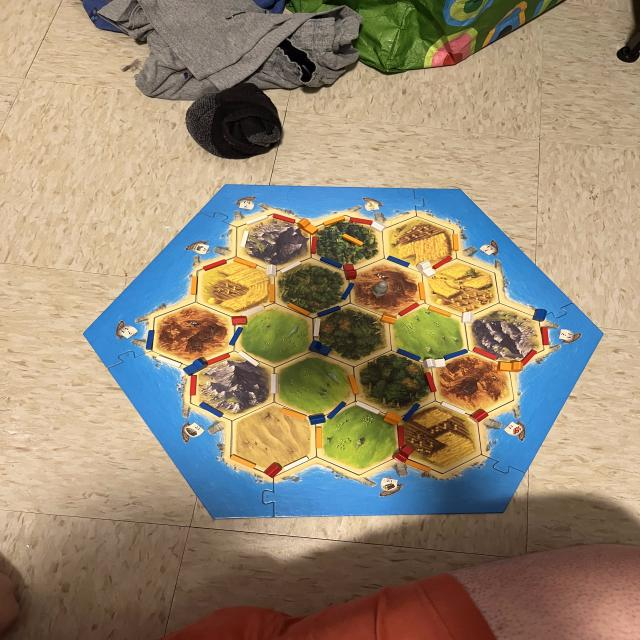blue-city: (307, 340, 333, 356), (183, 358, 206, 376)
blue-road: (199, 402, 224, 417), (328, 401, 347, 419), (396, 348, 421, 361), (227, 327, 243, 345), (319, 256, 343, 268), (444, 349, 468, 361), (386, 255, 409, 267), (402, 404, 420, 419), (316, 306, 342, 316), (144, 330, 155, 351), (341, 282, 353, 300)
blue-settlement: (531, 307, 549, 322), (308, 414, 326, 426)
orange-city: (295, 218, 318, 235), (496, 361, 524, 373)
orange-road: (401, 458, 433, 472), (229, 454, 257, 469), (279, 408, 308, 420), (232, 256, 258, 269), (428, 305, 452, 318), (347, 374, 361, 395), (287, 303, 310, 315), (314, 426, 324, 450), (343, 234, 364, 245), (324, 216, 345, 227), (267, 283, 278, 303), (418, 281, 428, 302), (190, 276, 198, 295)
orange-settlement: (382, 411, 403, 426), (379, 312, 399, 325)
red-city: (391, 444, 412, 463), (342, 262, 357, 280)
red-road: (472, 346, 498, 360), (206, 351, 230, 366), (433, 256, 453, 270), (398, 303, 419, 316), (425, 372, 438, 392), (202, 260, 227, 270), (272, 213, 296, 223), (348, 216, 373, 225), (522, 350, 537, 365), (540, 325, 550, 347), (397, 424, 405, 448), (189, 374, 197, 396), (310, 236, 318, 254)
red-settlement: (262, 463, 284, 478), (469, 407, 488, 423), (231, 315, 248, 325)
white-city: (415, 261, 437, 280), (422, 357, 447, 370)
white-road: (237, 350, 260, 367), (284, 455, 310, 470), (439, 401, 467, 414), (155, 355, 183, 368), (355, 401, 382, 414), (242, 305, 265, 317), (244, 214, 269, 225), (280, 261, 302, 273), (270, 373, 279, 395), (312, 318, 322, 336), (239, 231, 249, 248)
white-settlement: (462, 311, 474, 326), (371, 222, 387, 233), (266, 264, 278, 276)
